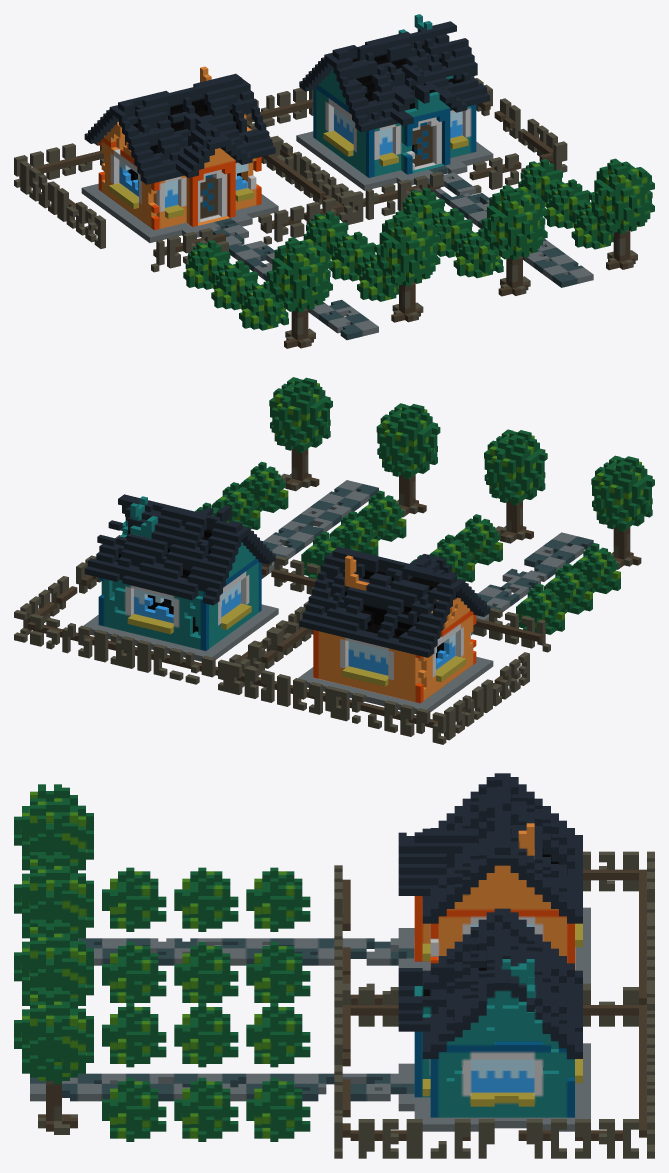
File: building_small_1_damaged.glb
The picture shows the model from 3 angles, top to bottom: view 1: azimuth 30°, elevation 25°; view 2: azimuth 150°, elevation 25°; view 3: azimuth 270°, elevation 25°; orthographic projection. The views are drawn at different scales.
Visible parts, largest first — view 1: building_small_1_damaged; view 2: building_small_1_damaged; view 3: building_small_1_damaged.
Boxes of the visible parts, x1,y1,x2,y2 form: building_small_1_damaged: (14,14,654,348); building_small_1_damaged: (14,377,654,744); building_small_1_damaged: (14,773,654,1158).
Size of the model in its own units: 8 by 2.1 by 8.
Materials: 1 (1 with a texture image).
